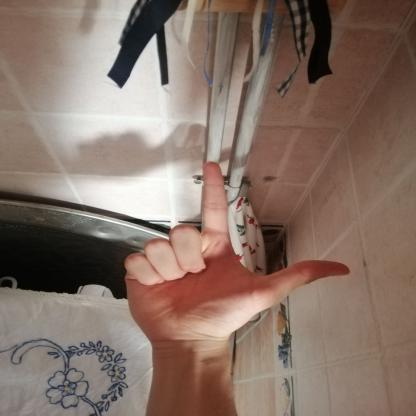LAAM: (111, 155, 361, 354)
